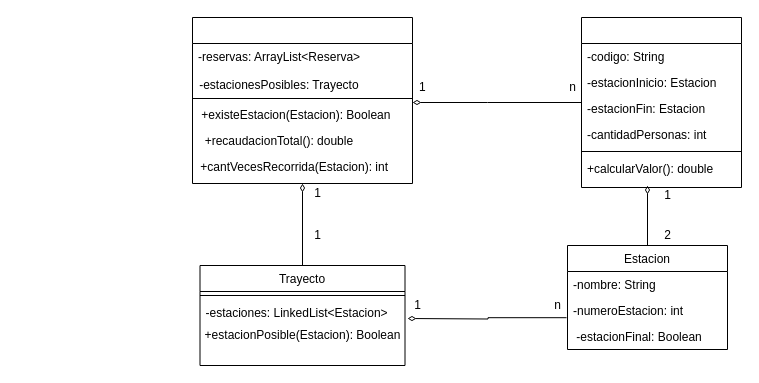
This 759x383 diagram has some shape labels left out. Here are the shapes that lost their labels. From the top down, the box of each, then its label:
(192, 16, 412, 184): Empresa
(580, 16, 742, 188): Reserva
